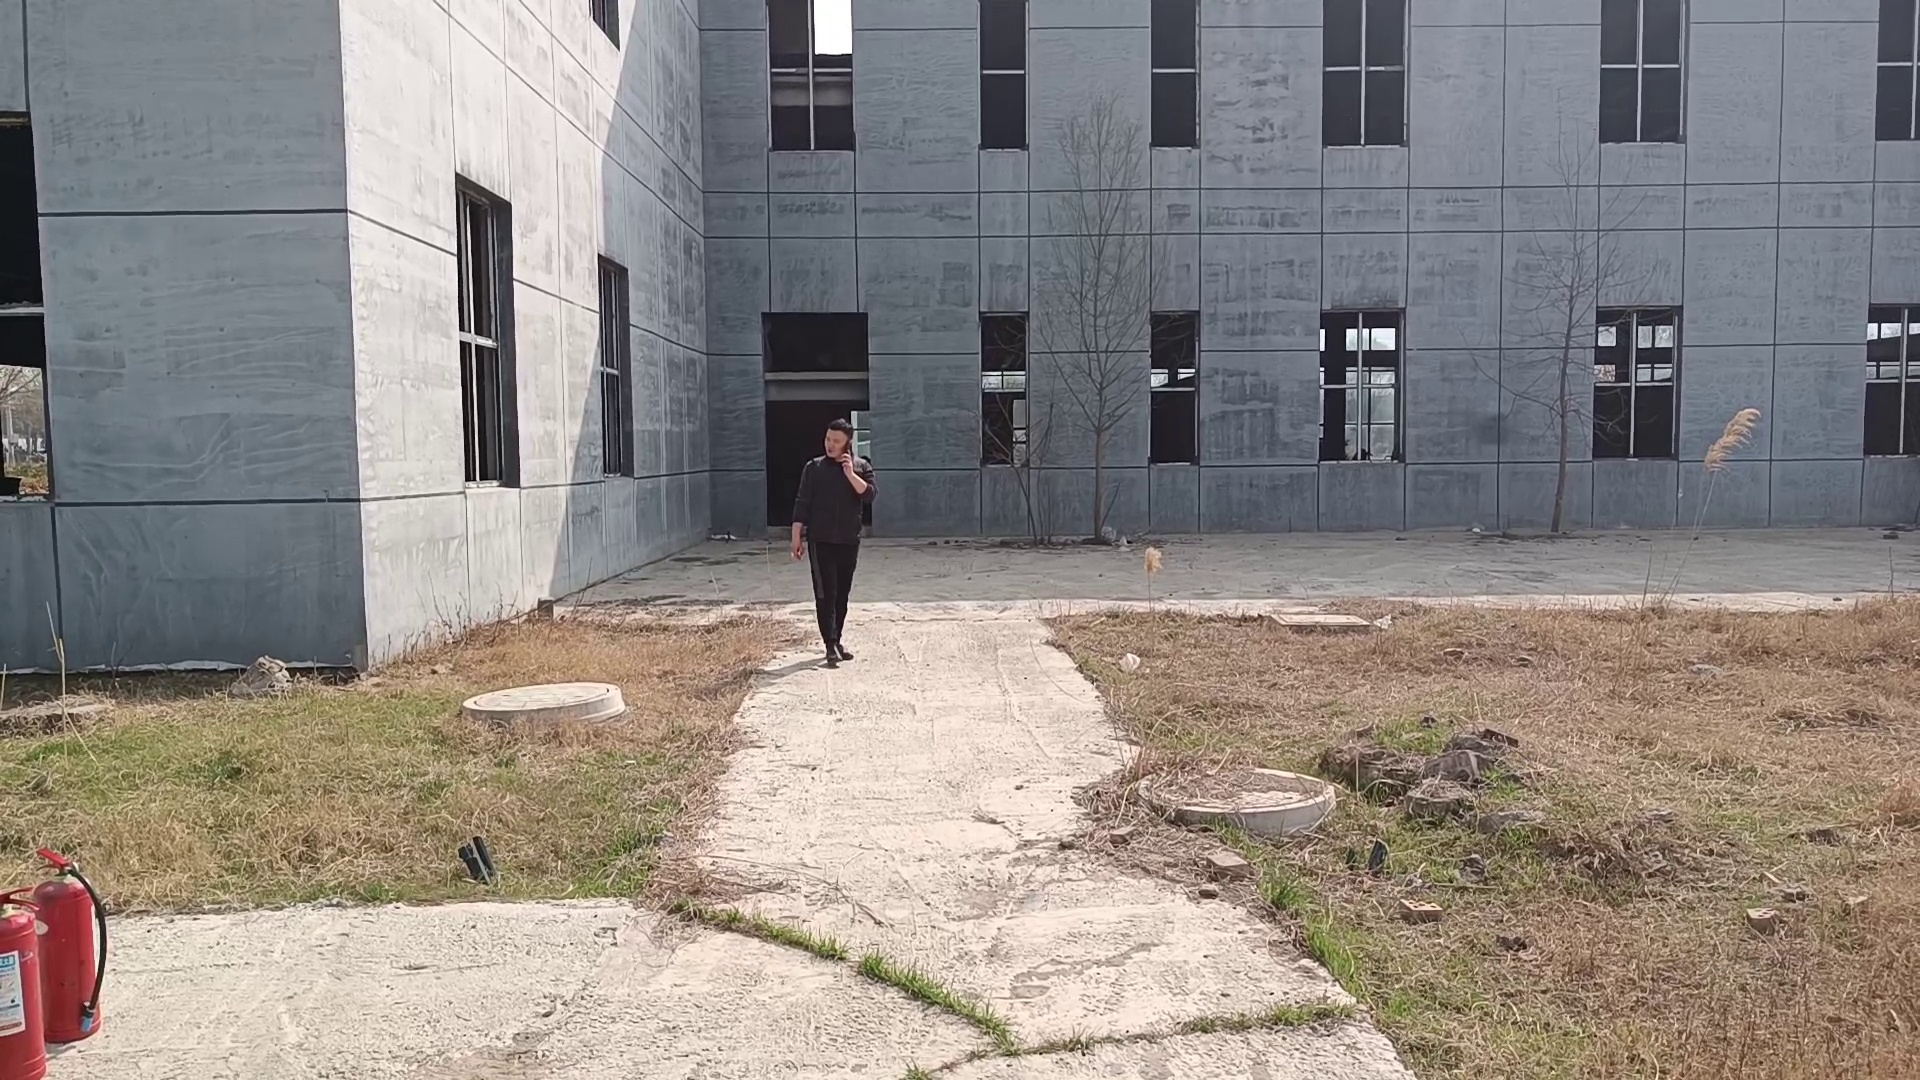phone: (825, 411, 858, 469)
